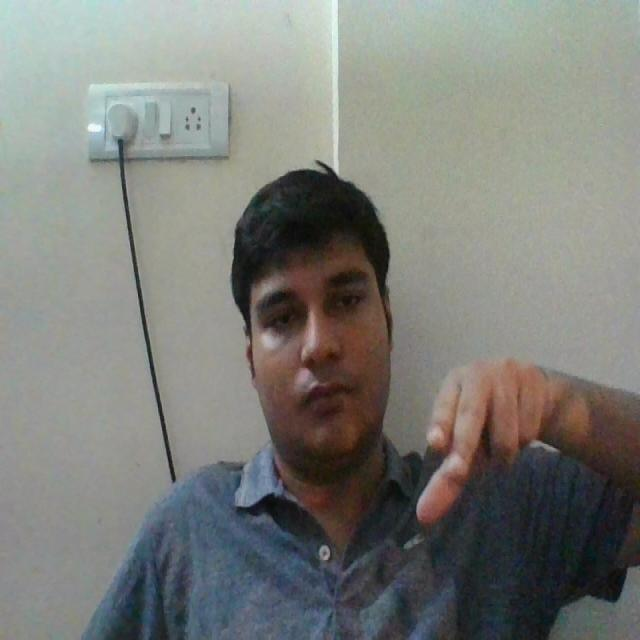no: (405, 322, 568, 574)
